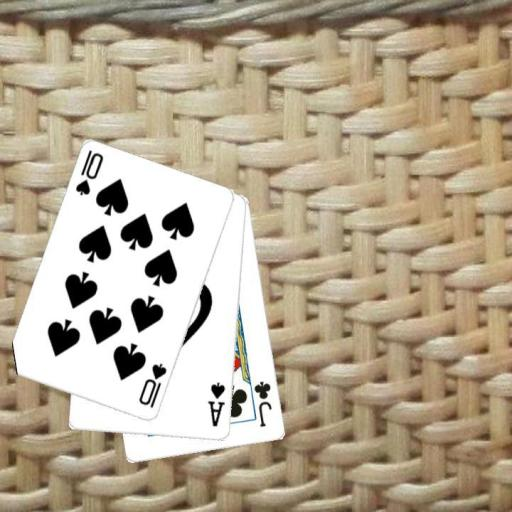10S: (73, 147, 105, 198), (136, 361, 168, 411)
AS: (205, 380, 227, 429)
JC: (251, 378, 274, 429)
